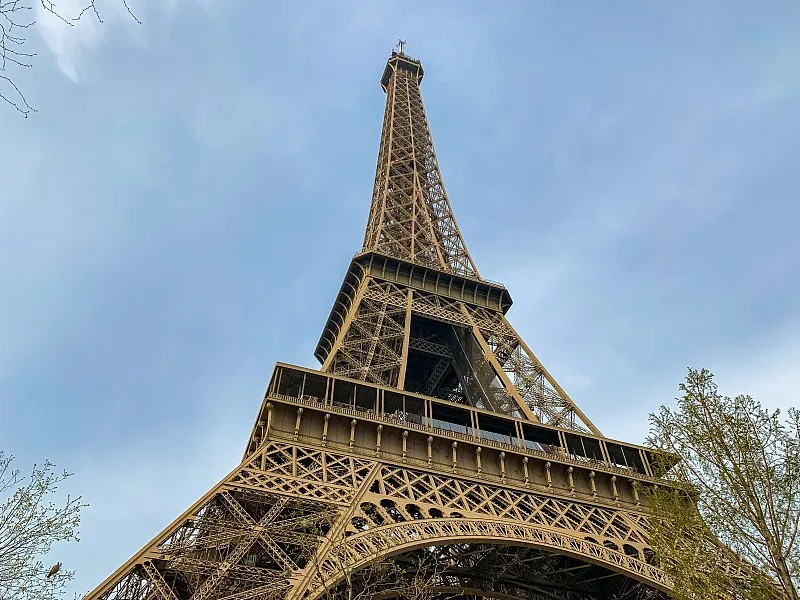Eiffel: (82, 39, 800, 600)
